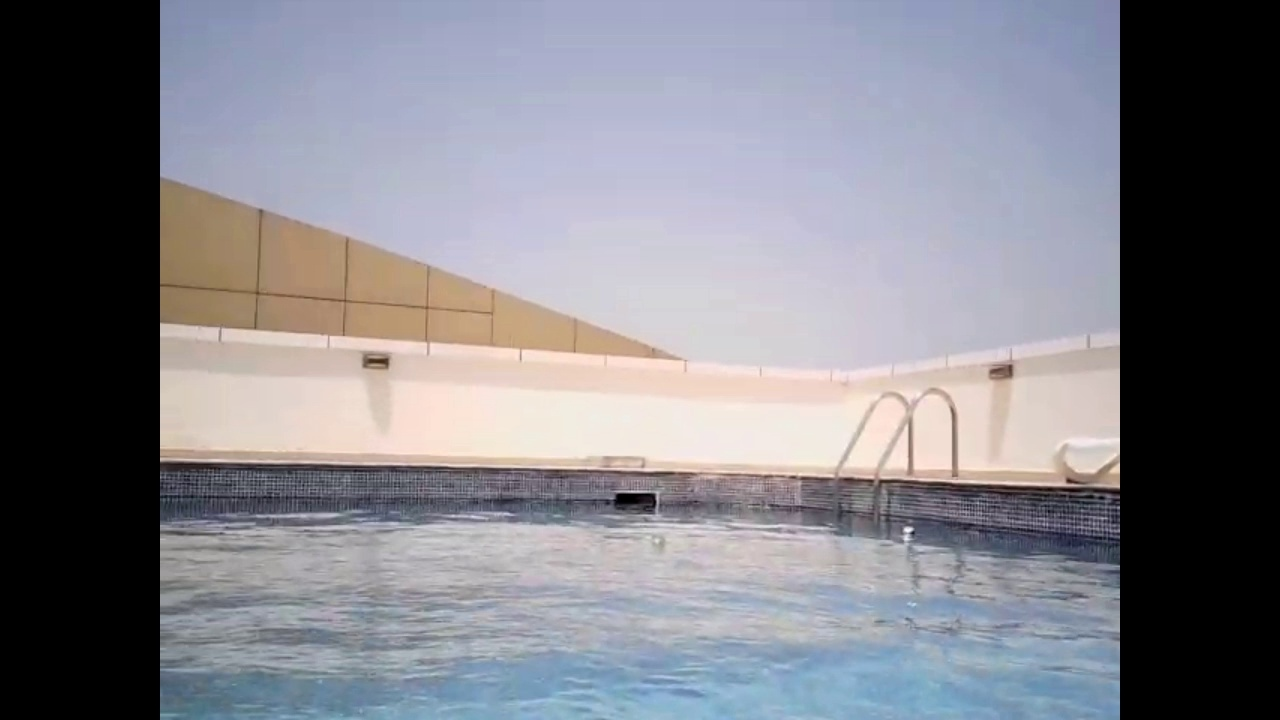debris: (643, 527, 668, 549), (898, 522, 917, 544)
